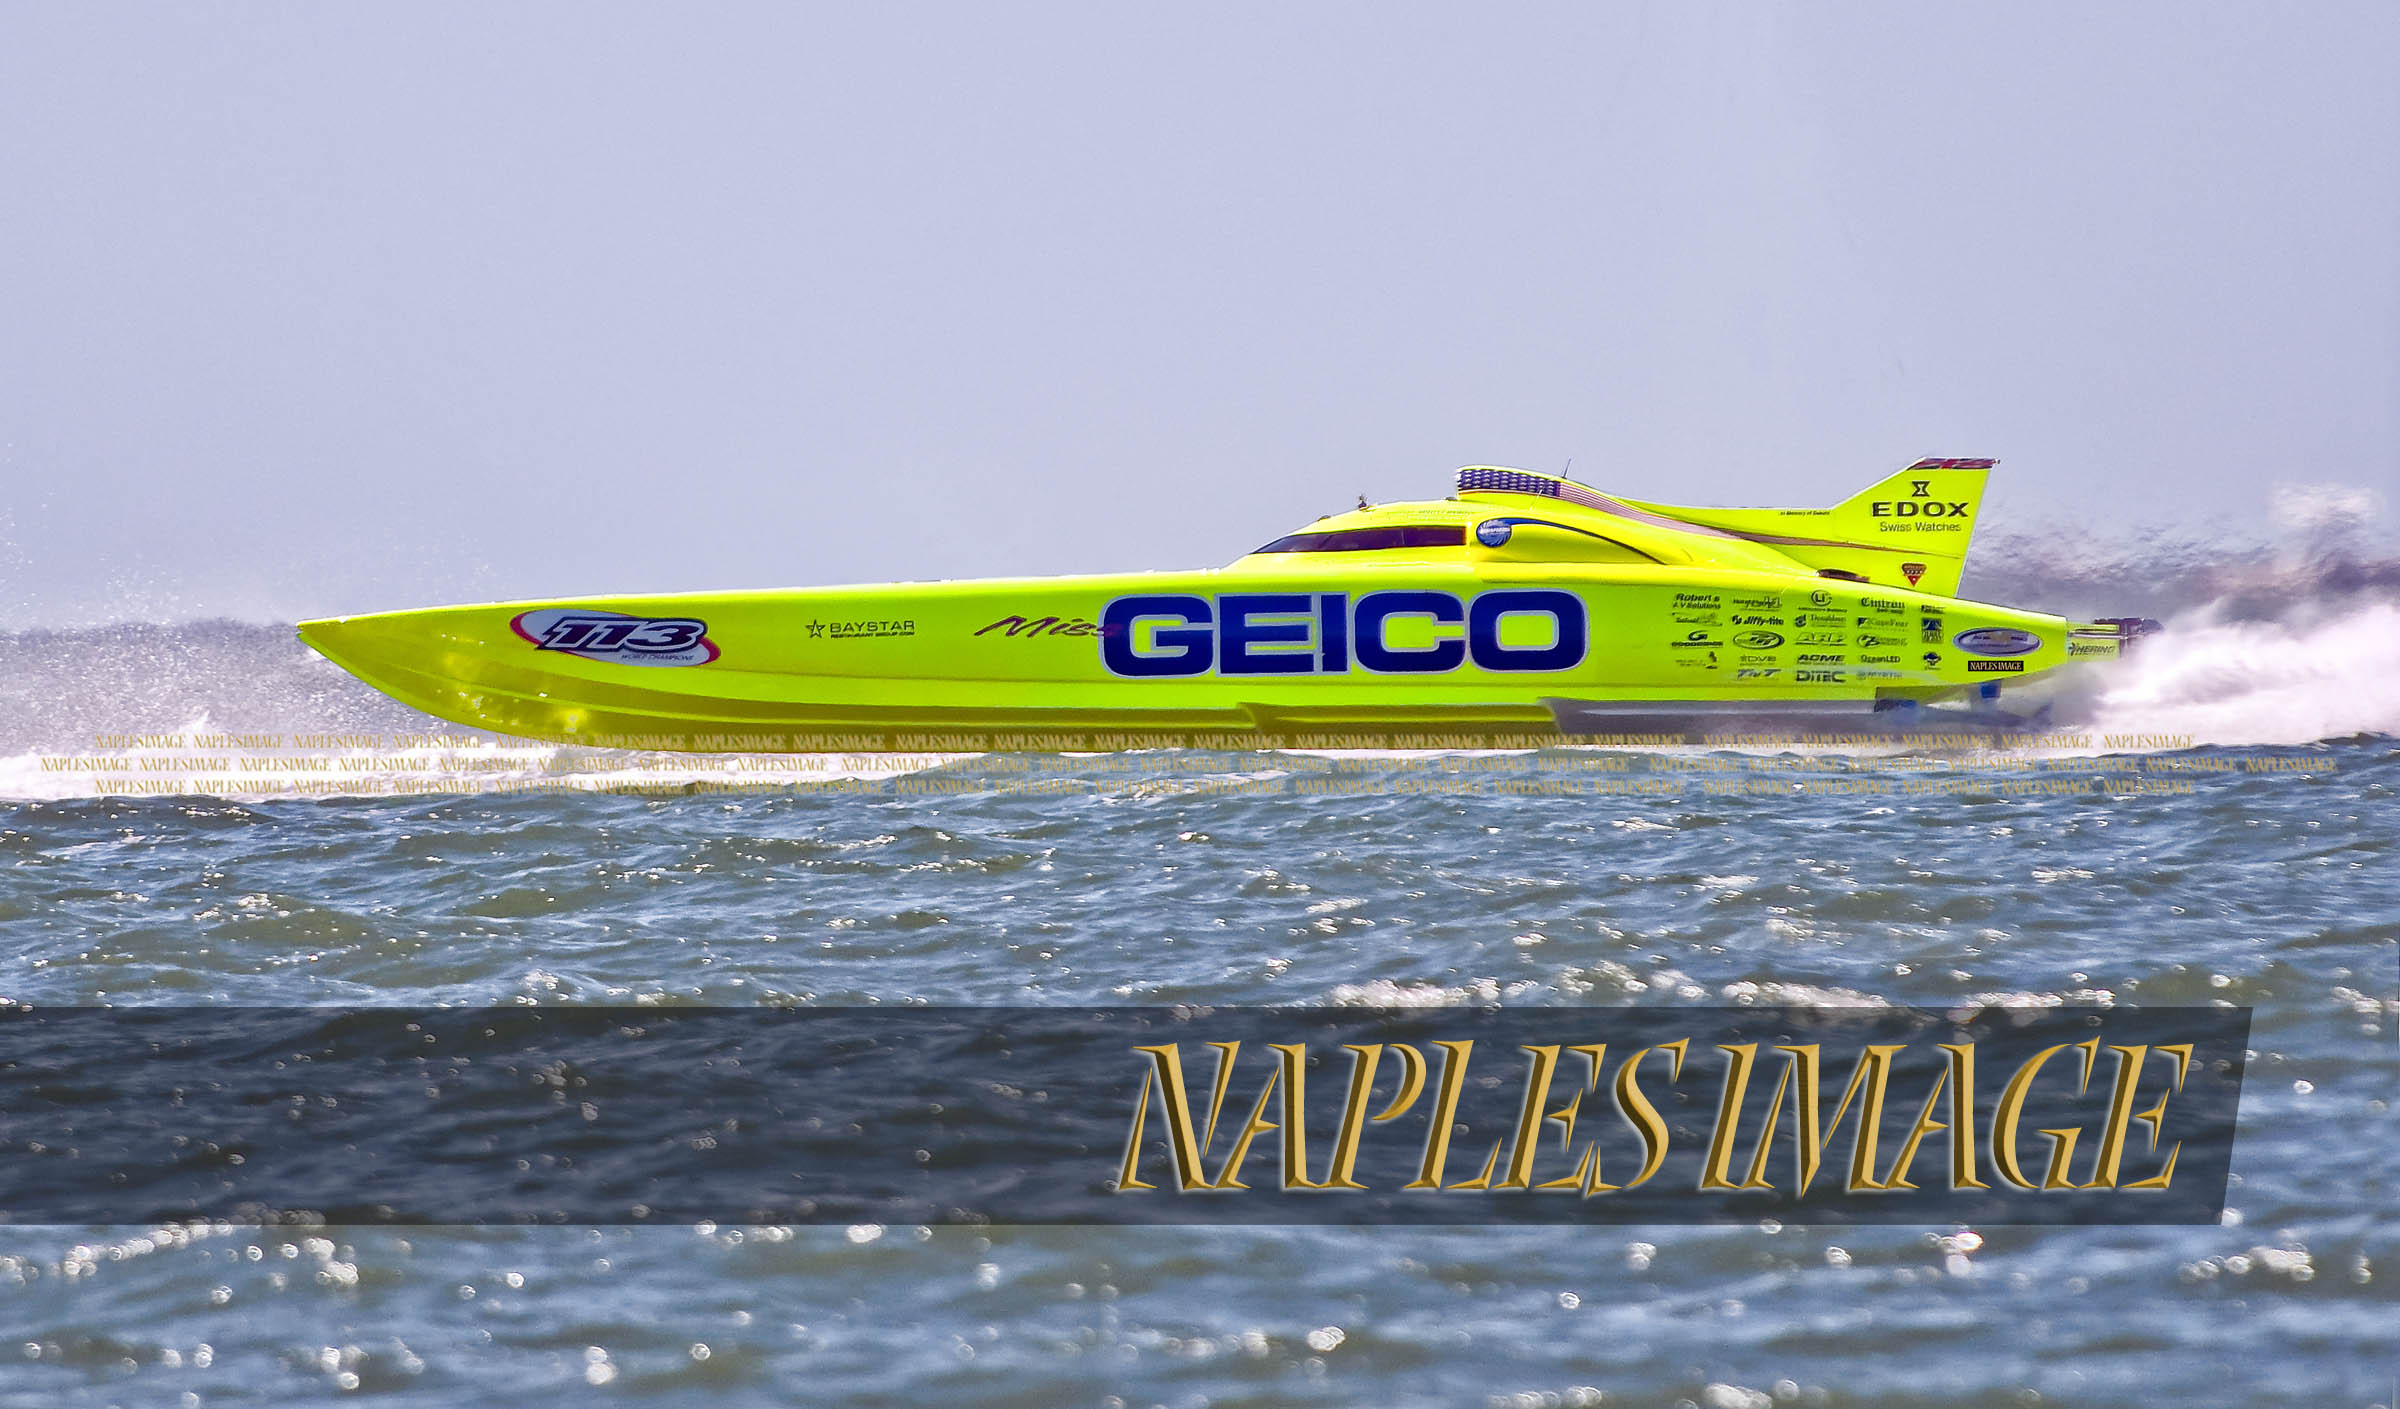Geico: (1088, 584, 1615, 691)
